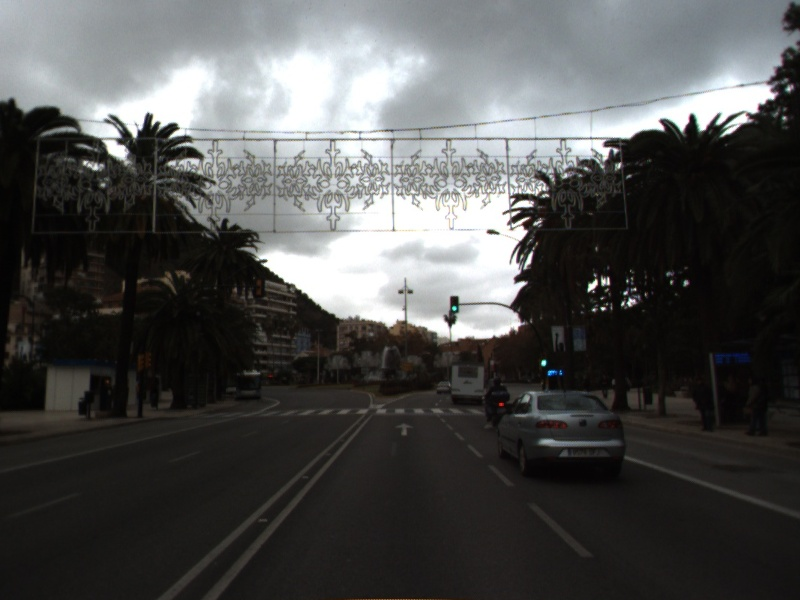STRAIGHT: (393, 421, 417, 438)
